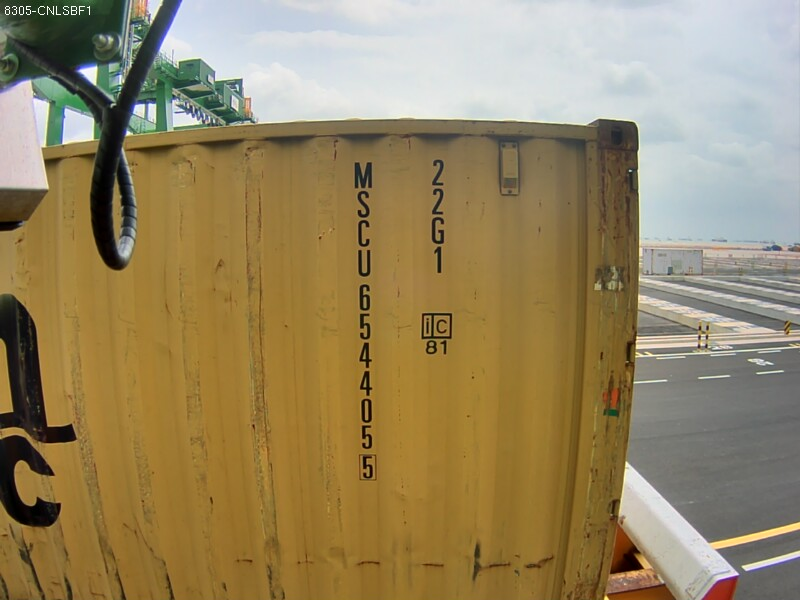container_no_door: (277, 102, 645, 597)
